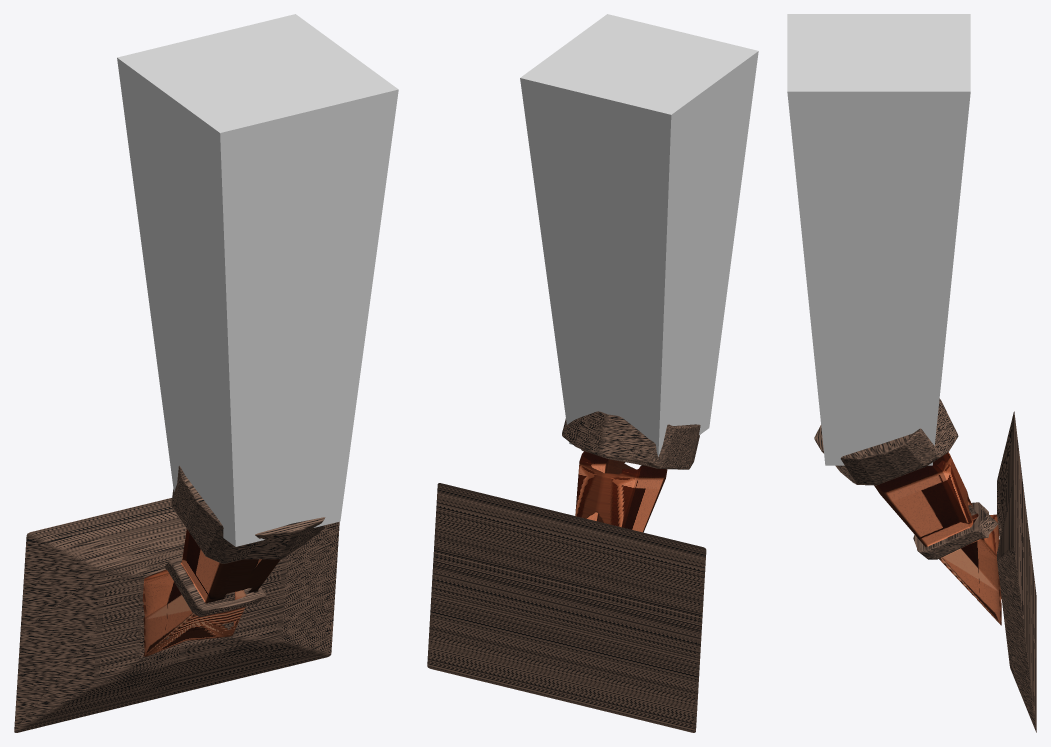
Rendered from tourch.fbx.
The picture shows the model from 3 angles, left to right: view 1: azimuth 30°, elevation 25°; view 2: azimuth 150°, elevation 25°; view 3: azimuth 270°, elevation 25°; orthographic projection. The views are drawn at different scales.
Parts seen in each view (by area): view 1: Smoke_Domain, Cube.015; view 2: Smoke_Domain, Cube.015; view 3: Smoke_Domain, Cube.015.
Boxes of the visible parts, <box> form: Smoke_Domain: <box>117,14,398,546</box>; Cube.015: <box>14,466,339,732</box>; Smoke_Domain: <box>520,14,758,456</box>; Cube.015: <box>427,411,706,732</box>; Smoke_Domain: <box>787,14,970,465</box>; Cube.015: <box>814,398,1036,732</box>.
Bounding box in the file's own units: 405 × 838 × 310.
